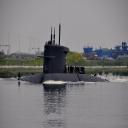submarine: (14, 20, 112, 83)
